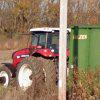Tractor: (11, 19, 72, 93)
